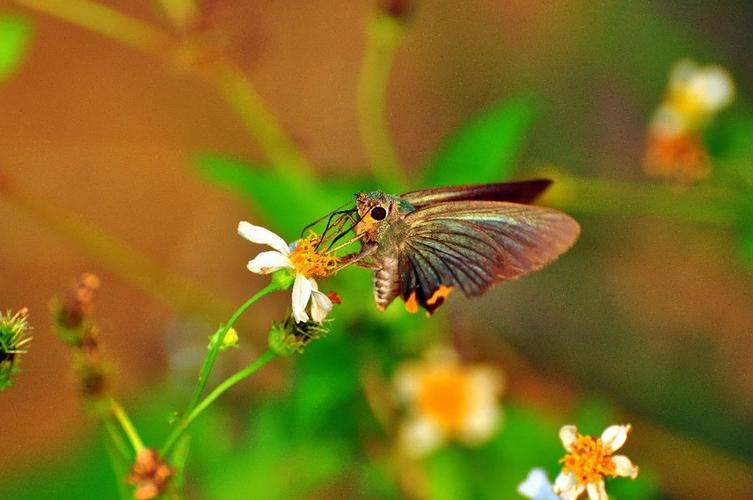Hesperiidae: (300, 171, 588, 318)
